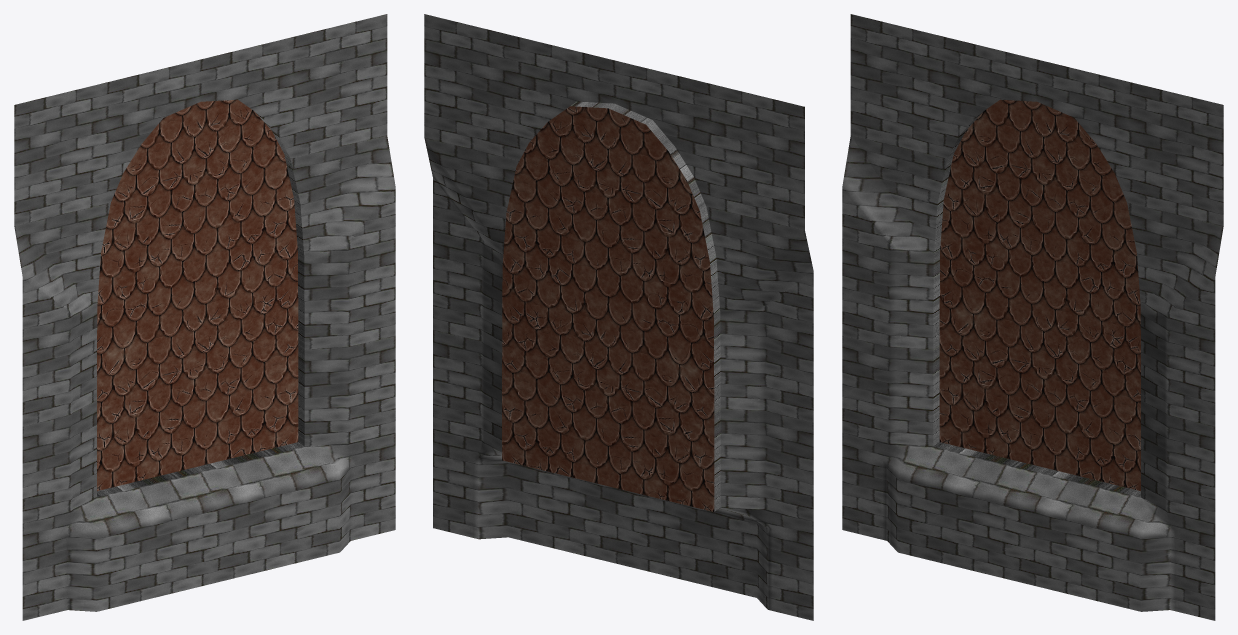
The model's file is CityWall_Wall.fbx.
3 views of the same model, side by side, from view 1: azimuth 30°, elevation 25°; view 2: azimuth 150°, elevation 25°; view 3: azimuth 330°, elevation 25° (orthographic). The views are drawn at different scales.
Visible parts, largest first — view 1: CityWallForeWall, CityWallStoneWall; view 2: CityWallForeWall, CityWallStoneWall; view 3: CityWallForeWall, CityWallStoneWall.
Boxes of the visible parts, x1,y1,x2,y2 form: CityWallForeWall: [14, 14, 395, 620]; CityWallStoneWall: [97, 99, 298, 490]; CityWallForeWall: [424, 14, 813, 620]; CityWallStoneWall: [502, 106, 714, 511]; CityWallForeWall: [842, 14, 1223, 620]; CityWallStoneWall: [939, 99, 1140, 490].
Size of the model in its own units: 10.54 by 13.77 by 1.17.
Materials: 2 (2 with a texture image).
